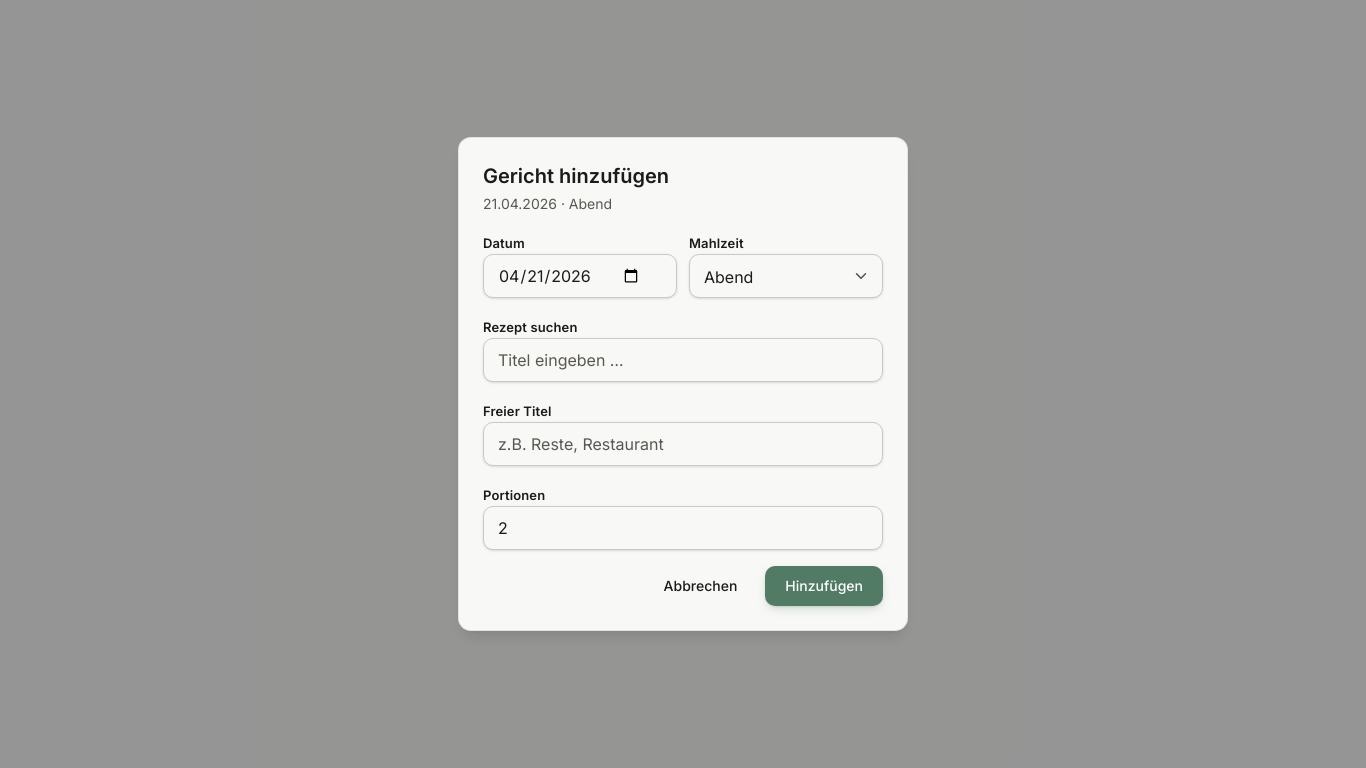
<AddSlotDialog /> › surfaces the localised errors:<code> copy when the API rejects the slot
The image size is (1366, 768).
Type "Reste" into the field labelled "Freier Titel".
click(683, 444); type("Reste")  # box [483,422,883,466]
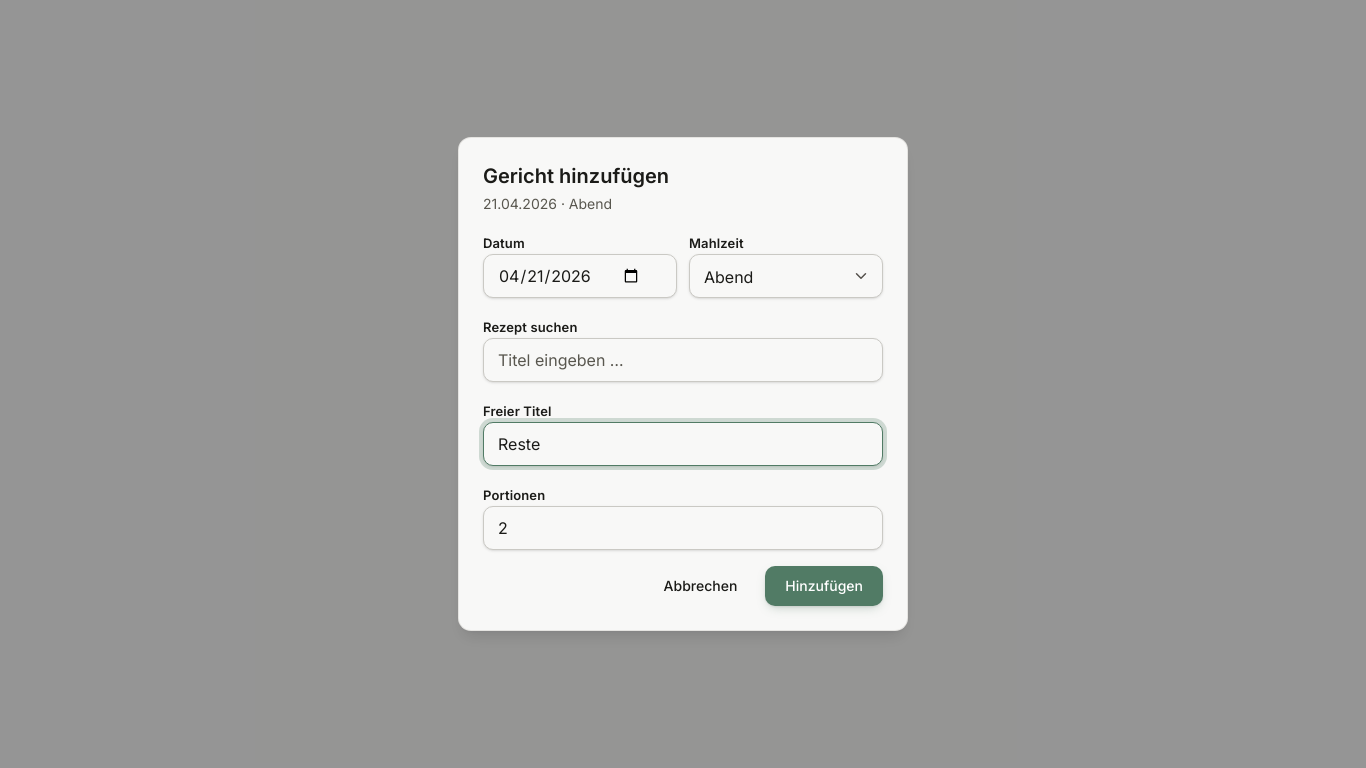
Click the button "Hinzufügen".
click(824, 586)  # box [765,566,883,606]
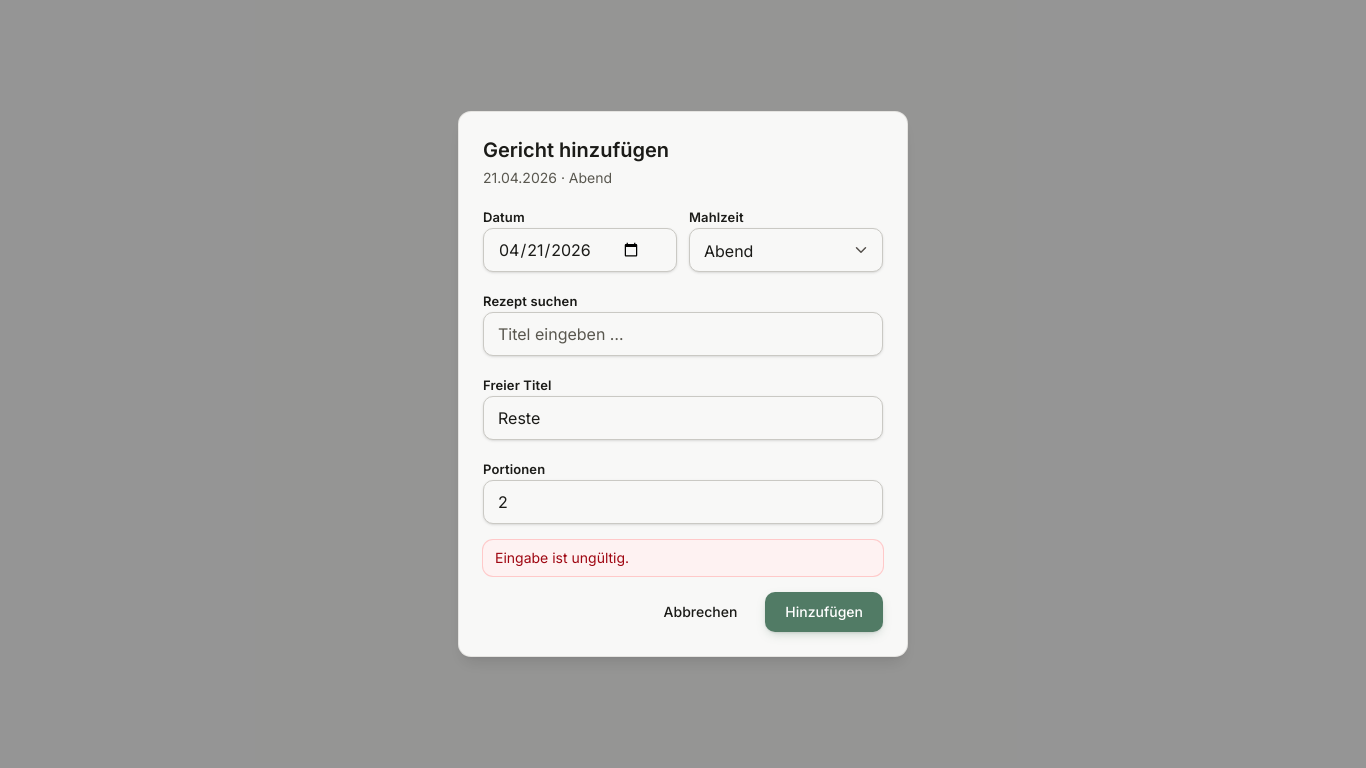
Expected: the message does not show "Slot date out of week", [483,540,883,576]
Result: the message reads "Eingabe ist ungültig." at [495,549,629,566]
